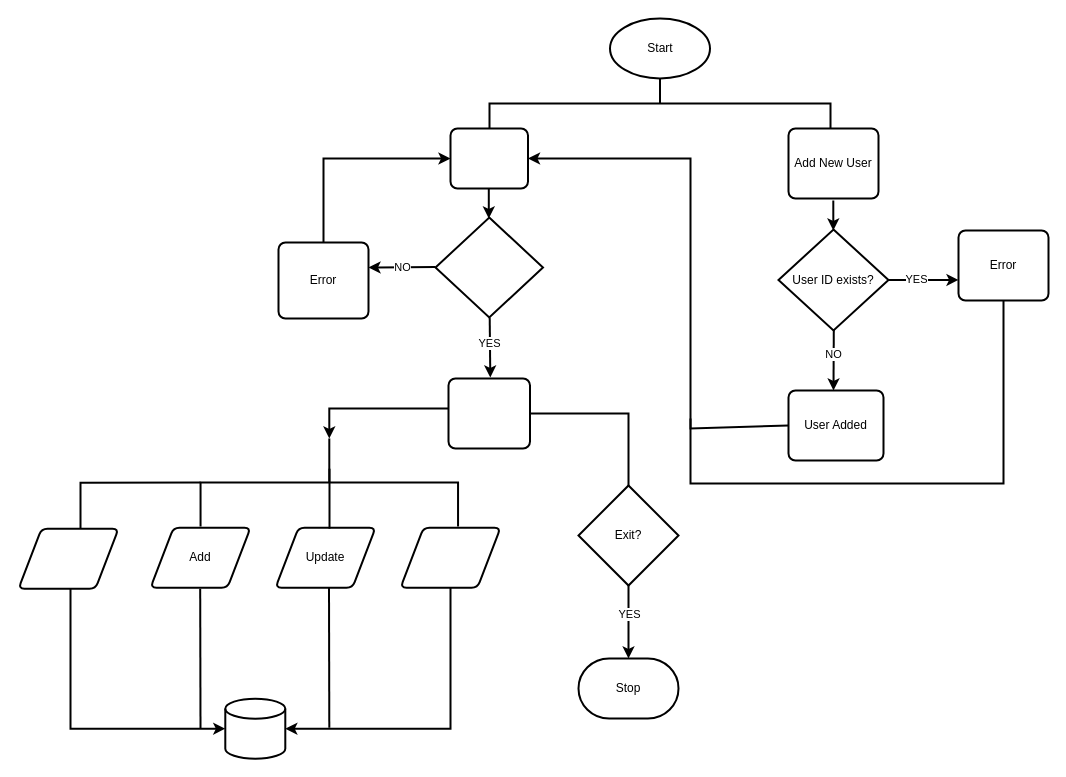
This 1066x777 diagram has some shape labels left out. Each missing label, with the centre of its shape:
Delete: pixel 450 557
Login: pixel 488 158
Search: pixel 68 558
UI: pixel 488 413
User Exists?: pixel 489 267
